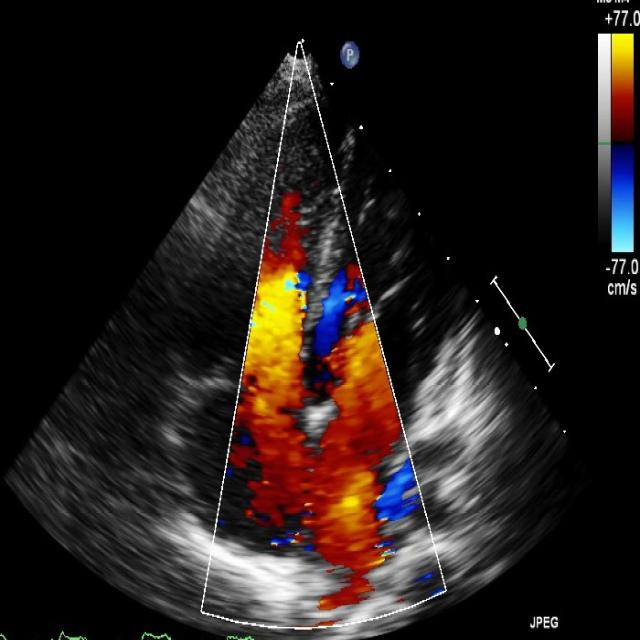ASDType2: (227, 332, 411, 606)
